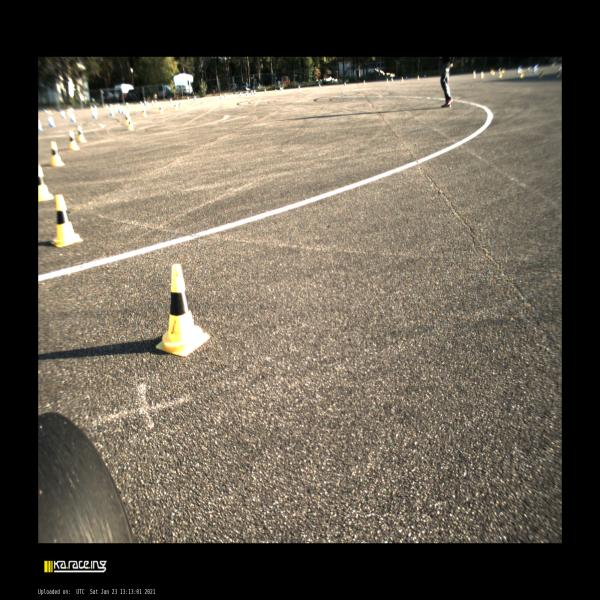blue_cone: (49, 117, 55, 127), (38, 120, 43, 130), (71, 114, 76, 122), (517, 67, 520, 74), (533, 67, 536, 74), (498, 68, 501, 72), (170, 98, 172, 104), (194, 95, 196, 101), (246, 90, 248, 96), (220, 94, 222, 99), (527, 67, 529, 72), (253, 90, 255, 94), (298, 85, 300, 89), (391, 78, 393, 82), (424, 74, 426, 78), (264, 89, 266, 92), (240, 92, 241, 97), (251, 90, 252, 95), (319, 84, 320, 87), (344, 82, 345, 85), (406, 76, 407, 79)
yellow_cone: (154, 263, 210, 356), (49, 194, 84, 248), (38, 164, 54, 202), (50, 140, 66, 167), (68, 129, 80, 151), (76, 125, 87, 143), (127, 120, 134, 130), (173, 103, 178, 110), (142, 109, 147, 116), (125, 114, 128, 124), (159, 106, 163, 113), (481, 71, 484, 79), (179, 101, 182, 108), (500, 71, 503, 77), (520, 72, 523, 78), (401, 77, 404, 82), (386, 78, 389, 83), (474, 73, 476, 79), (473, 70, 475, 76), (492, 70, 494, 76), (499, 72, 501, 78), (502, 68, 504, 74), (187, 96, 189, 102), (418, 75, 420, 80), (364, 80, 366, 85), (274, 89, 276, 94), (224, 94, 226, 99), (254, 92, 256, 97), (490, 70, 492, 74), (279, 89, 281, 92), (281, 88, 282, 91), (282, 88, 283, 91)
